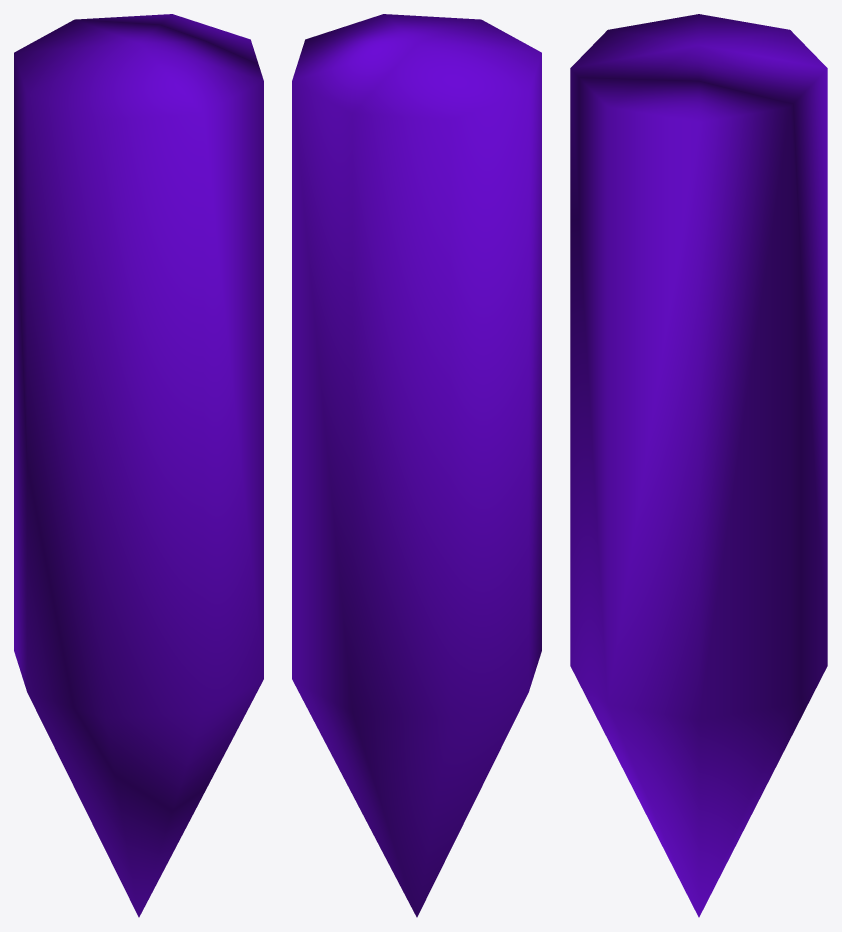
Rendered from bullet0.fbx.
3 renders of one model, left to right at view 1: azimuth 30°, elevation 25°; view 2: azimuth 150°, elevation 25°; view 3: azimuth 270°, elevation 25°, orthographic.
Parts seen in each view (by area): view 1: Plane; view 2: Plane; view 3: Plane.
Part boxes in pixels (x1=…): Plane: x1=14, y1=14, x2=263, y2=917; Plane: x1=292, y1=14, x2=541, y2=917; Plane: x1=570, y1=14, x2=827, y2=917.
Bounding box in the file's own units: 0.51 × 1.91 × 0.51.
